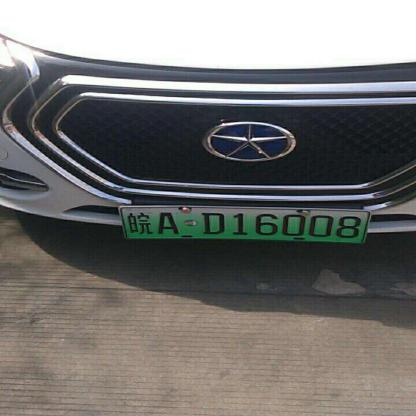lp: (121, 206, 368, 242)
